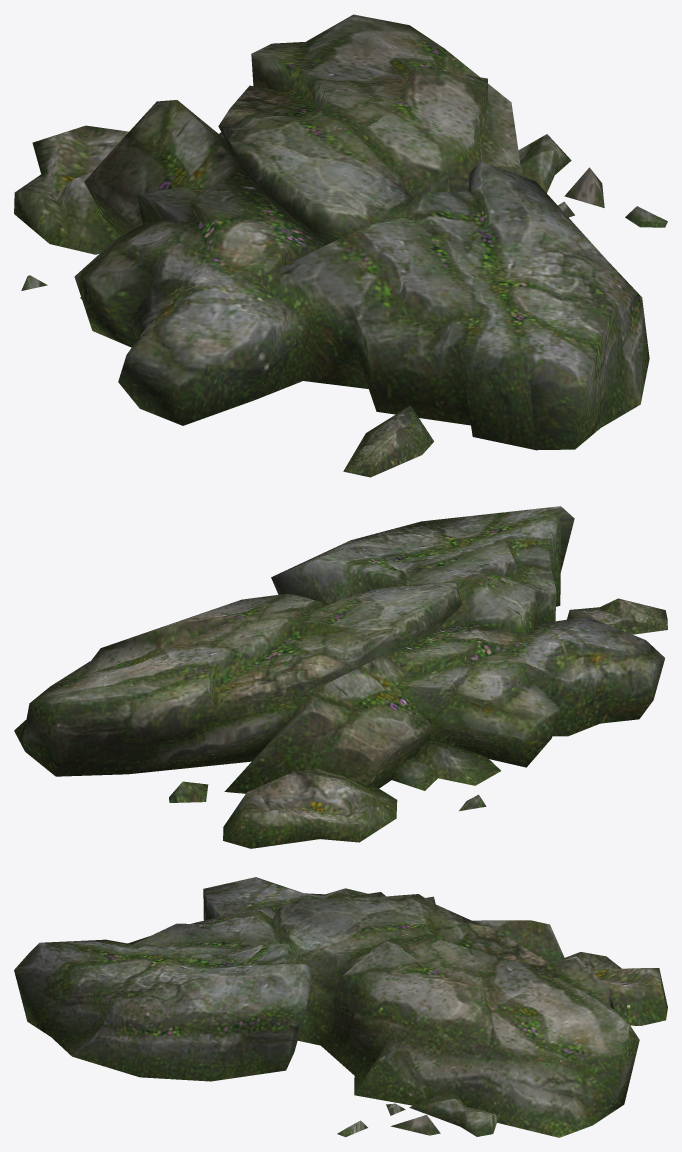
The model's file is gonggong_shitou01.FBX.
The picture shows the model from 3 angles, top to bottom: view 1: azimuth 30°, elevation 25°; view 2: azimuth 150°, elevation 25°; view 3: azimuth 270°, elevation 25°; orthographic projection. The views are drawn at different scales.
Visible parts, largest first — view 1: DrawCall_0078; view 2: DrawCall_0078; view 3: DrawCall_0078.
Part boxes in pixels (left/top/right/bottom): DrawCall_0078: left=14, top=14, right=667, bottom=477; DrawCall_0078: left=14, top=506, right=667, bottom=848; DrawCall_0078: left=14, top=877, right=667, bottom=1137.
Bounding box in the file's own units: 1011 × 238 × 1284.
